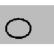no answer: (4, 15, 33, 40)
